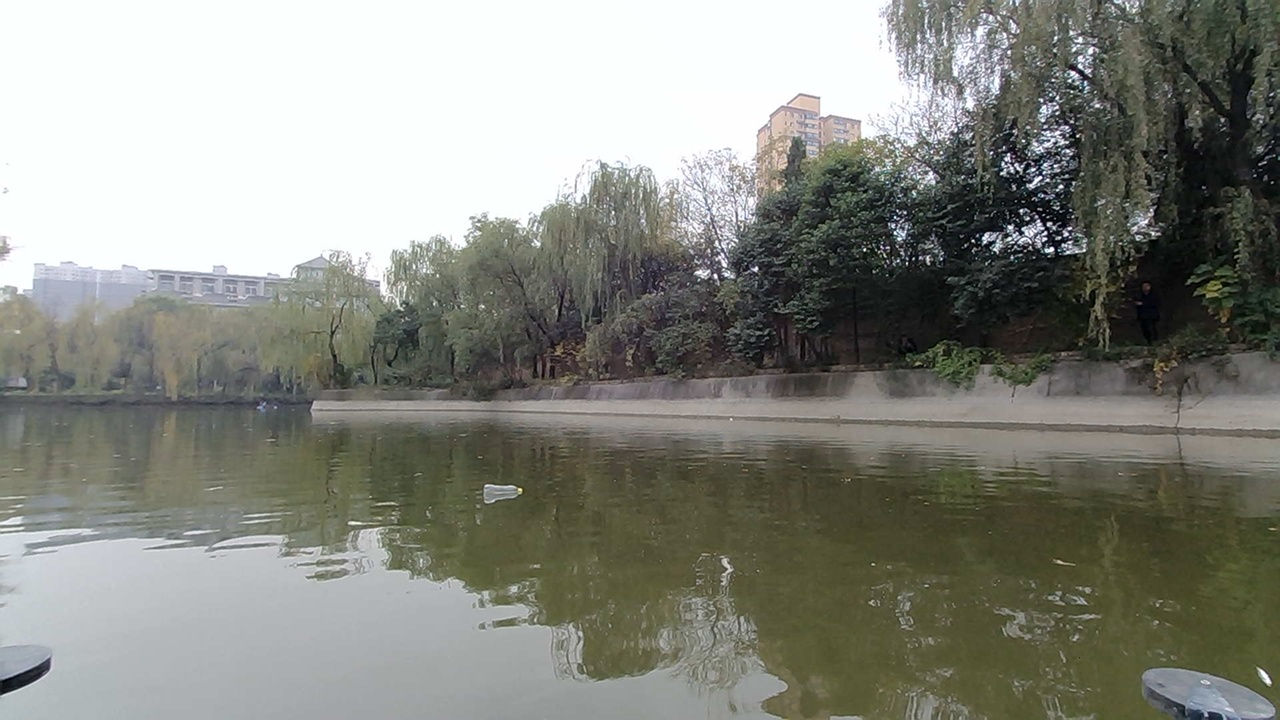bottle: (472, 467, 533, 510)
